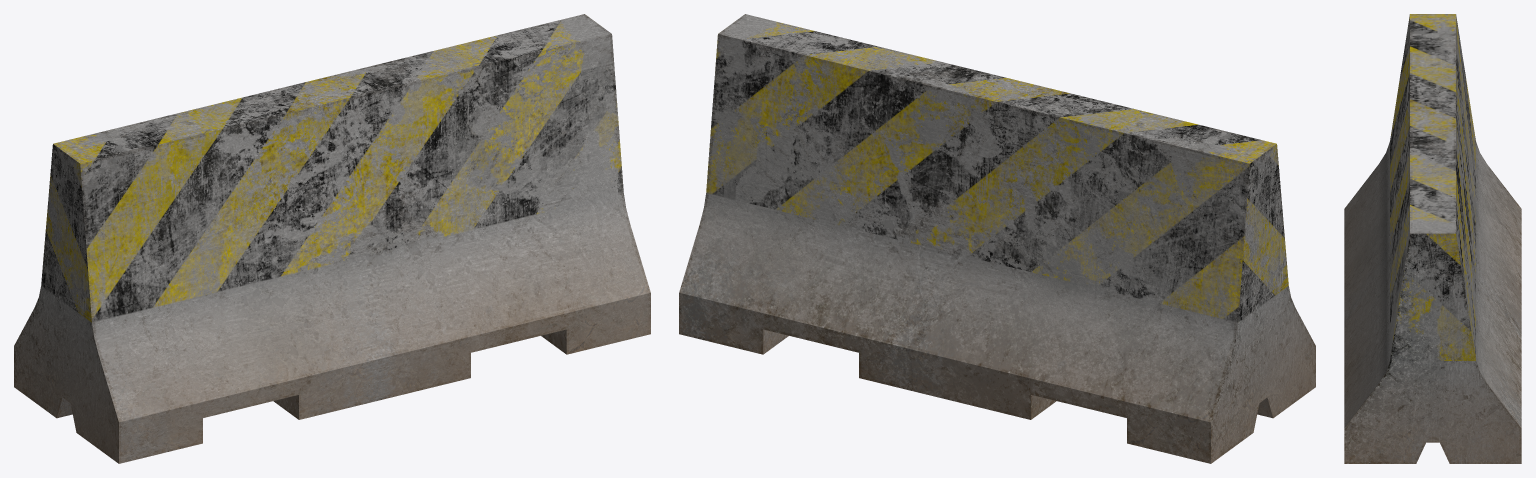
Rendered from concrete_road_barrier.glb.
3 renders of one model, left to right at view 1: azimuth 30°, elevation 25°; view 2: azimuth 150°, elevation 25°; view 3: azimuth 270°, elevation 25°, orthographic. The views are drawn at different scales.
Parts seen in each view (by area): view 1: concrete_road_block; view 2: concrete_road_block; view 3: concrete_road_block.
Boxes of the visible parts, x1,y1,x2,y2 form: concrete_road_block: (14,14,650,463); concrete_road_block: (679,14,1315,463); concrete_road_block: (1344,14,1521,463).
Size of the model in its own units: 2.4 by 1.17 by 0.8209.
1 material, 1 textured.
